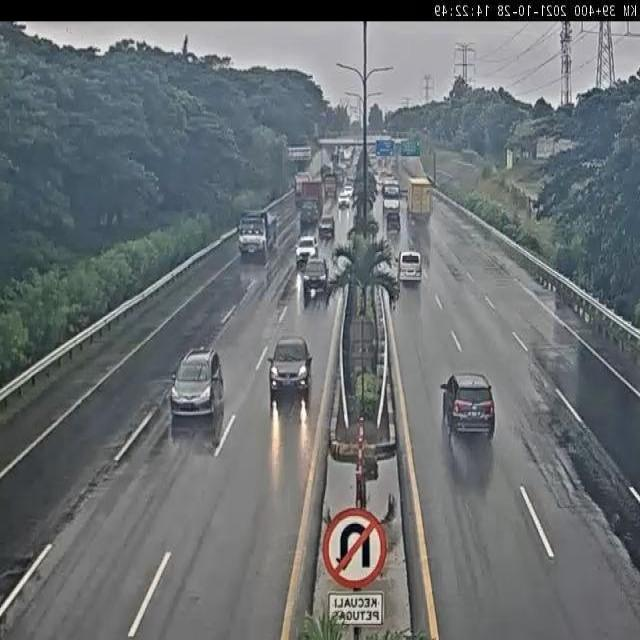Bus: (382, 179, 402, 218)
Car: (170, 345, 225, 421), (442, 371, 496, 439), (268, 336, 314, 402), (300, 254, 330, 304), (296, 234, 319, 265), (318, 215, 334, 239), (338, 186, 353, 209)
Truck: (237, 205, 281, 264), (298, 180, 324, 228), (407, 178, 432, 222), (322, 172, 338, 202), (385, 208, 401, 235)
Van: (398, 250, 423, 285)
